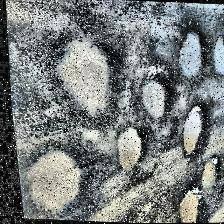pothole: (46, 36, 122, 119), (16, 146, 92, 218), (170, 28, 210, 80), (174, 103, 210, 157), (109, 124, 145, 172), (134, 78, 172, 120), (168, 188, 204, 224), (192, 156, 222, 196), (206, 34, 224, 76), (218, 142, 224, 178)
